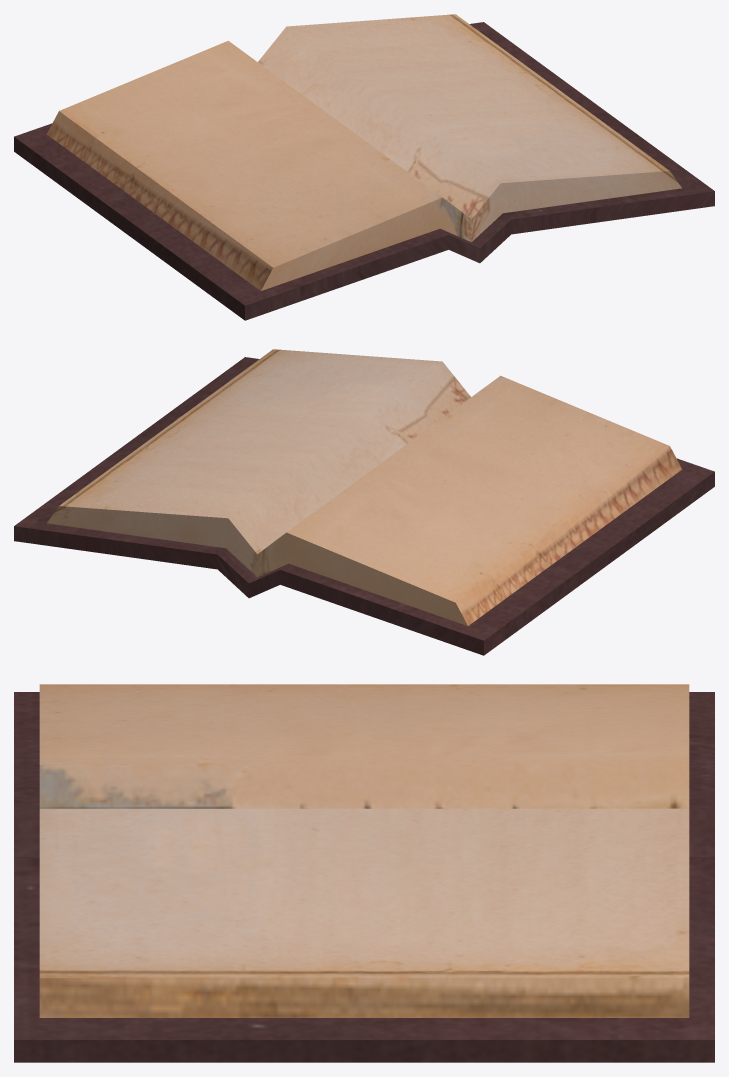
The model's file is bookOpen01.fbx.
The picture shows the model from 3 angles, top to bottom: view 1: azimuth 30°, elevation 25°; view 2: azimuth 150°, elevation 25°; view 3: azimuth 270°, elevation 25°; orthographic projection. The views are drawn at different scales.
Visible parts, largest first — view 1: pCube13; view 2: pCube13; view 3: pCube13.
Boxes of the visible parts, x1=… form: pCube13: x1=14, y1=14, x2=714, y2=320; pCube13: x1=14, y1=349, x2=714, y2=655; pCube13: x1=14, y1=684, x2=714, y2=1062.
Bounding box in the file's own units: 57.74 × 7.85 × 49.19.
